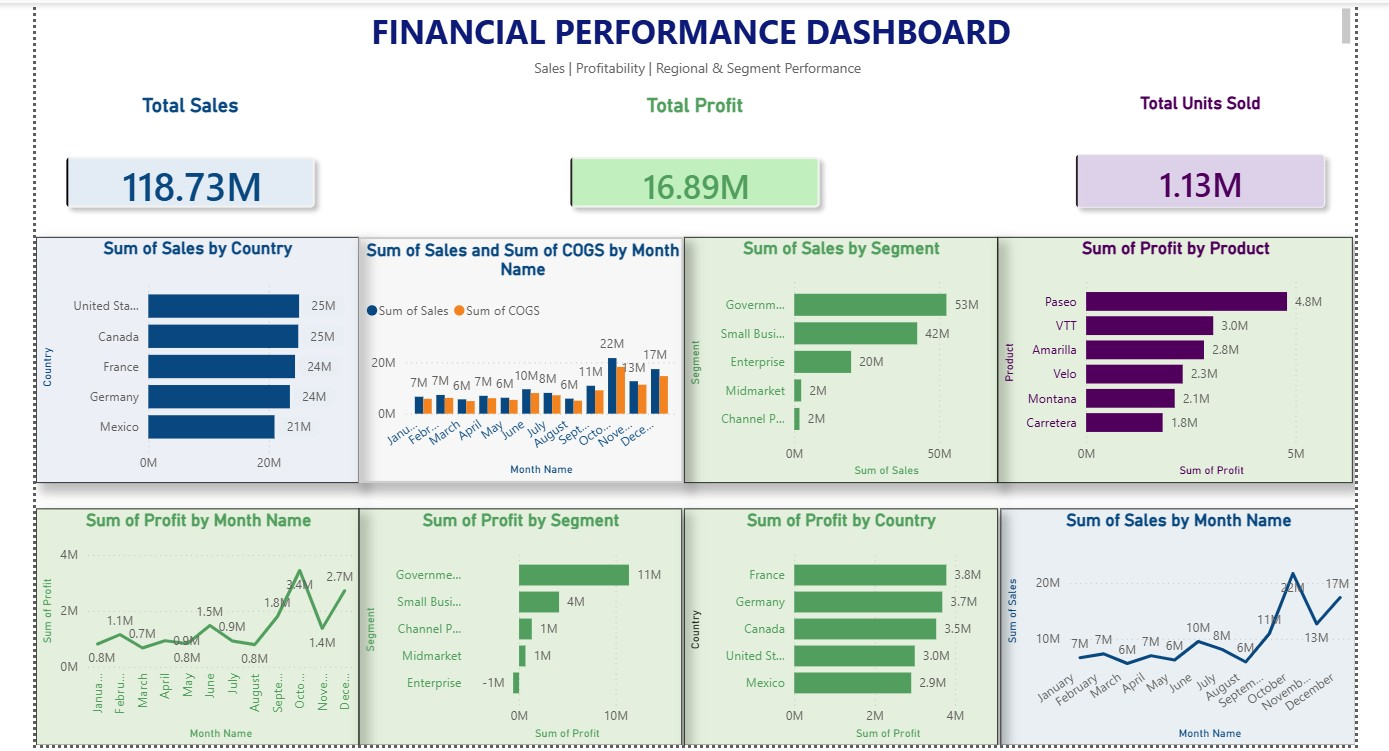

The page's visual inventory and layout, read from the dashboard file:
{"tool":"powerbi","page":{"name":"Financial Overview","canvas":[1280,720],"ordinal":0},"visuals":[{"type":"cardVisual","title":"Total Sales","fields":{"Data":["Sum(financials. Sales)"]},"box":[0,86.8,299.6,140.6],"z":0},{"type":"cardVisual","title":"Total Profit","fields":{"Data":["Sum(financials.Profit)"]},"box":[489.1,86.8,300.8,140.6],"z":1000},{"type":"cardVisual","title":"Total Units Sold","fields":{"Data":["Sum(financials.Units Sold)"]},"box":[979.5,86.8,300.8,140.6],"z":2000},{"type":"clusteredBarChart","fields":{"Category":["financials.Segment"],"Y":["Sum(financials.Sales)"]},"box":[628.5,227.4,304.5,238.5],"z":3000},{"type":"clusteredBarChart","fields":{"Category":["financials.Country"],"Y":["Sum(financials.Sales)"]},"box":[0,227.4,313,238.5],"z":4000},{"type":"lineChart","fields":{"Category":["financials.Month Name"],"Y":["Sum(financials.Sales)"]},"box":[935.5,490.4,344.8,229.9],"z":5000},{"type":"lineChart","fields":{"Category":["financials.Month Name"],"Y":["Sum(financials.Profit)"]},"box":[0,490.4,314.3,229.9],"z":6000},{"type":"clusteredColumnChart","fields":{"Category":["financials.Month Name"],"Y":["Sum(financials.Sales)","Sum(financials.COGS)"]},"box":[313,227.4,315.5,238.5],"z":7000},{"type":"clusteredBarChart","fields":{"Category":["financials.Segment"],"Y":["Sum(financials.Profit)"]},"box":[313,490.4,314.3,229.9],"z":8000},{"type":"clusteredBarChart","fields":{"Y":["Sum(financials.Profit)"],"Category":["financials.Product"]},"box":[933,227.4,344.8,238.5],"z":9000},{"type":"clusteredBarChart","fields":{"Y":["Sum(financials.Profit)"],"Category":["financials.Country"]},"box":[628.5,490.4,304.5,229.9],"z":10000},{"type":"textbox","box":[-0.1,48,1280.3,28.8],"z":10500},{"type":"textbox","box":[0,0,1280.3,48],"z":11000}]}

Visuals, with their boxes on the page's 1280x720 design canvas (x1, y1, x2, y2). These are canvas units, not pixel positions in the 1389x751 screenshot, which may show the page scaled, cropped or inside an application window:
"Total Sales" cardVisual: bbox=[0, 87, 300, 227]
"Total Profit" cardVisual: bbox=[489, 87, 790, 227]
"Total Units Sold" cardVisual: bbox=[980, 87, 1280, 227]
clusteredBarChart - financials.Segment x Sum(financials.Sales): bbox=[628, 227, 933, 466]
clusteredBarChart - financials.Country x Sum(financials.Sales): bbox=[0, 227, 313, 466]
lineChart - financials.Month Name x Sum(financials.Sales): bbox=[936, 490, 1280, 720]
lineChart - financials.Month Name x Sum(financials.Profit): bbox=[0, 490, 314, 720]
clusteredColumnChart - financials.Month Name x Sum(financials.Sales): bbox=[313, 227, 628, 466]
clusteredBarChart - financials.Segment x Sum(financials.Profit): bbox=[313, 490, 627, 720]
clusteredBarChart - Sum(financials.Profit) x financials.Product: bbox=[933, 227, 1278, 466]
clusteredBarChart - Sum(financials.Profit) x financials.Country: bbox=[628, 490, 933, 720]
textbox: bbox=[0, 48, 1280, 77]
textbox: bbox=[0, 0, 1280, 48]
